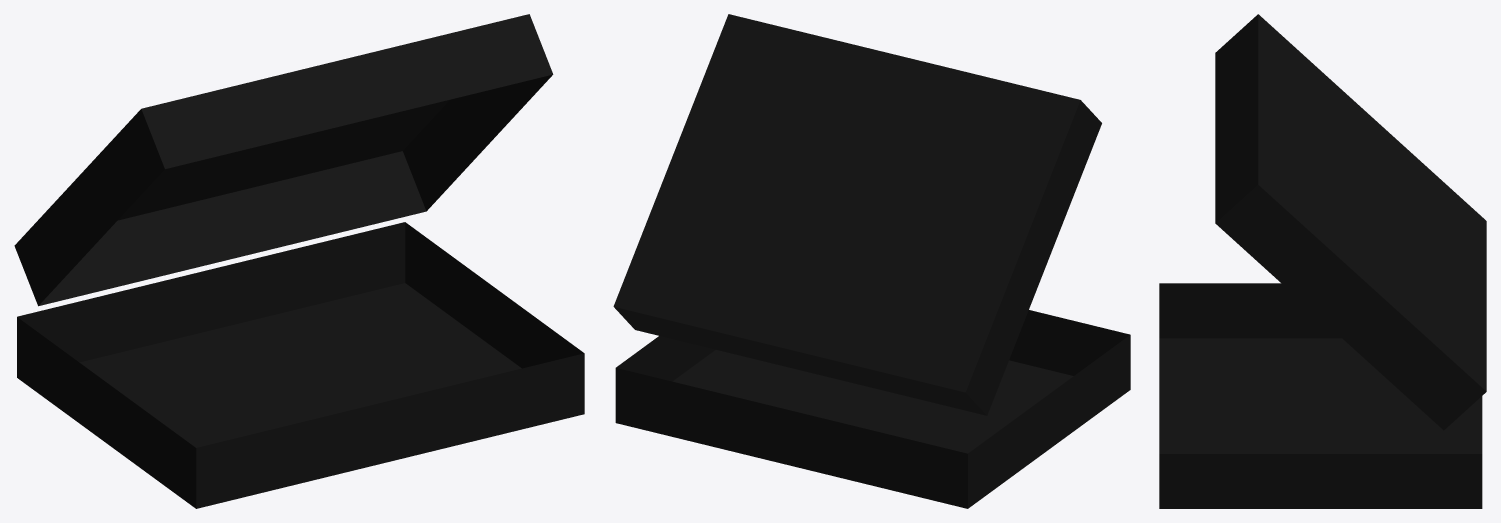
Rendered from 16_open_briefcase.glb.
The picture shows the model from 3 angles, left to right: view 1: azimuth 30°, elevation 25°; view 2: azimuth 150°, elevation 25°; view 3: azimuth 270°, elevation 25°; orthographic projection. The views are drawn at different scales.
Visible parts, largest first — view 1: items/16_open_briefcase; view 2: items/16_open_briefcase; view 3: items/16_open_briefcase.
Part boxes in pixels (box(x1,y1,x2,y2)): items/16_open_briefcase: box(14, 14, 584, 508); items/16_open_briefcase: box(613, 14, 1130, 508); items/16_open_briefcase: box(1159, 14, 1486, 508).
Size of the model in its own units: 0.625 by 0.5537 by 0.5068.
Materials: 1 (1 with a texture image).
